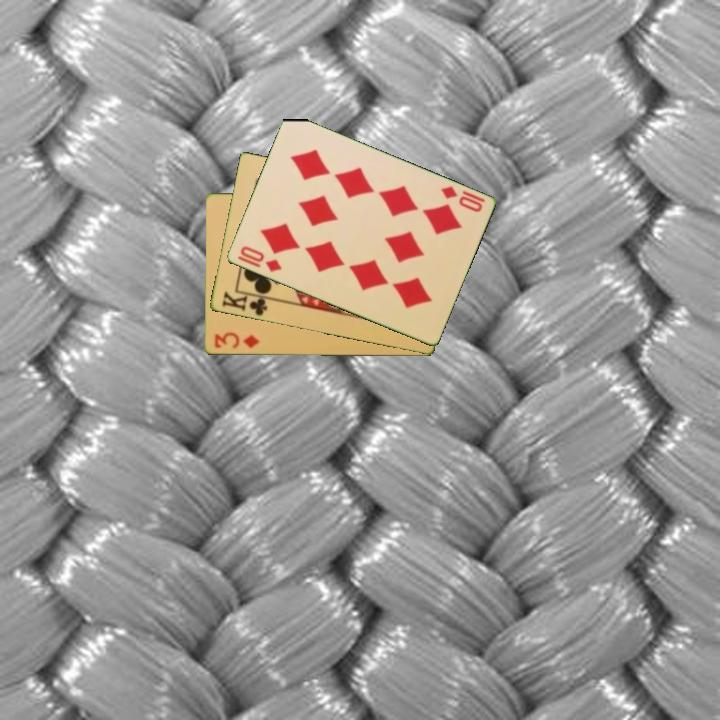10d: (437, 182, 485, 215), (236, 243, 284, 275)
3d: (211, 329, 262, 351)
Kc: (218, 288, 274, 319)
